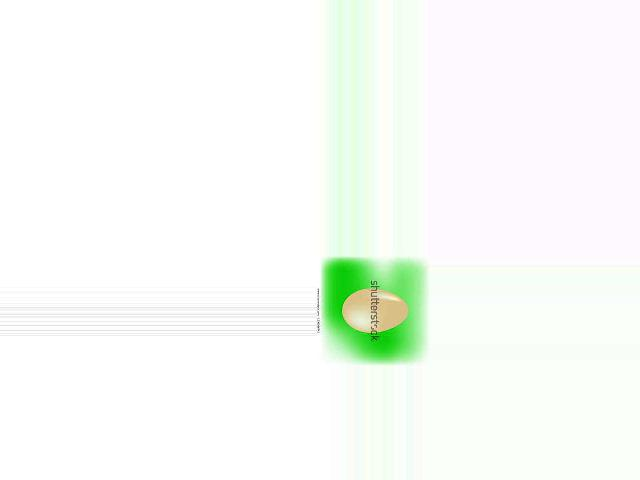egg: (342, 289, 408, 333)
